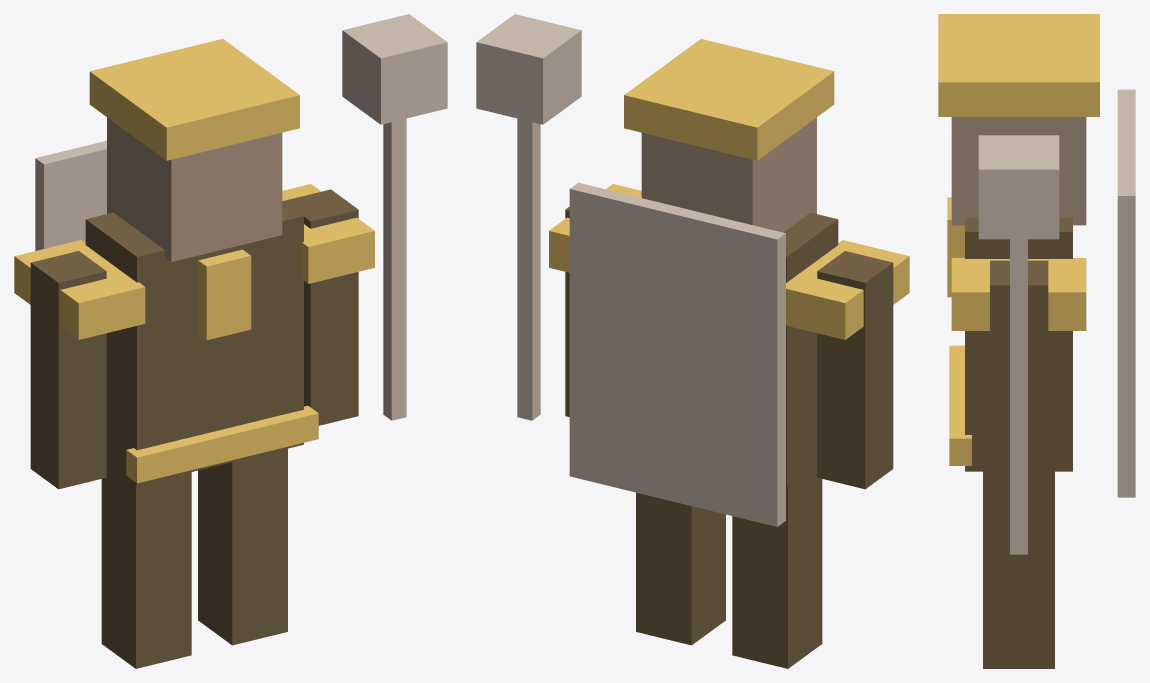
Rendered from 08_orin_skyharrow_pilgrim_near.glb.
The picture shows the model from 3 angles, left to right: view 1: azimuth 30°, elevation 25°; view 2: azimuth 150°, elevation 25°; view 3: azimuth 270°, elevation 25°; orthographic projection. The views are drawn at different scales.
Visible parts, largest first — view 1: Orin Skyharrow, Pilgrim near; view 2: Orin Skyharrow, Pilgrim near; view 3: Orin Skyharrow, Pilgrim near.
Boxes of the visible parts, box(x1,y1,x2,y2) form: Orin Skyharrow, Pilgrim near: box(14, 14, 447, 668); Orin Skyharrow, Pilgrim near: box(476, 14, 909, 668); Orin Skyharrow, Pilgrim near: box(938, 14, 1135, 668).
Size of the model in its own units: 1.08 by 1.49 by 0.4575.
